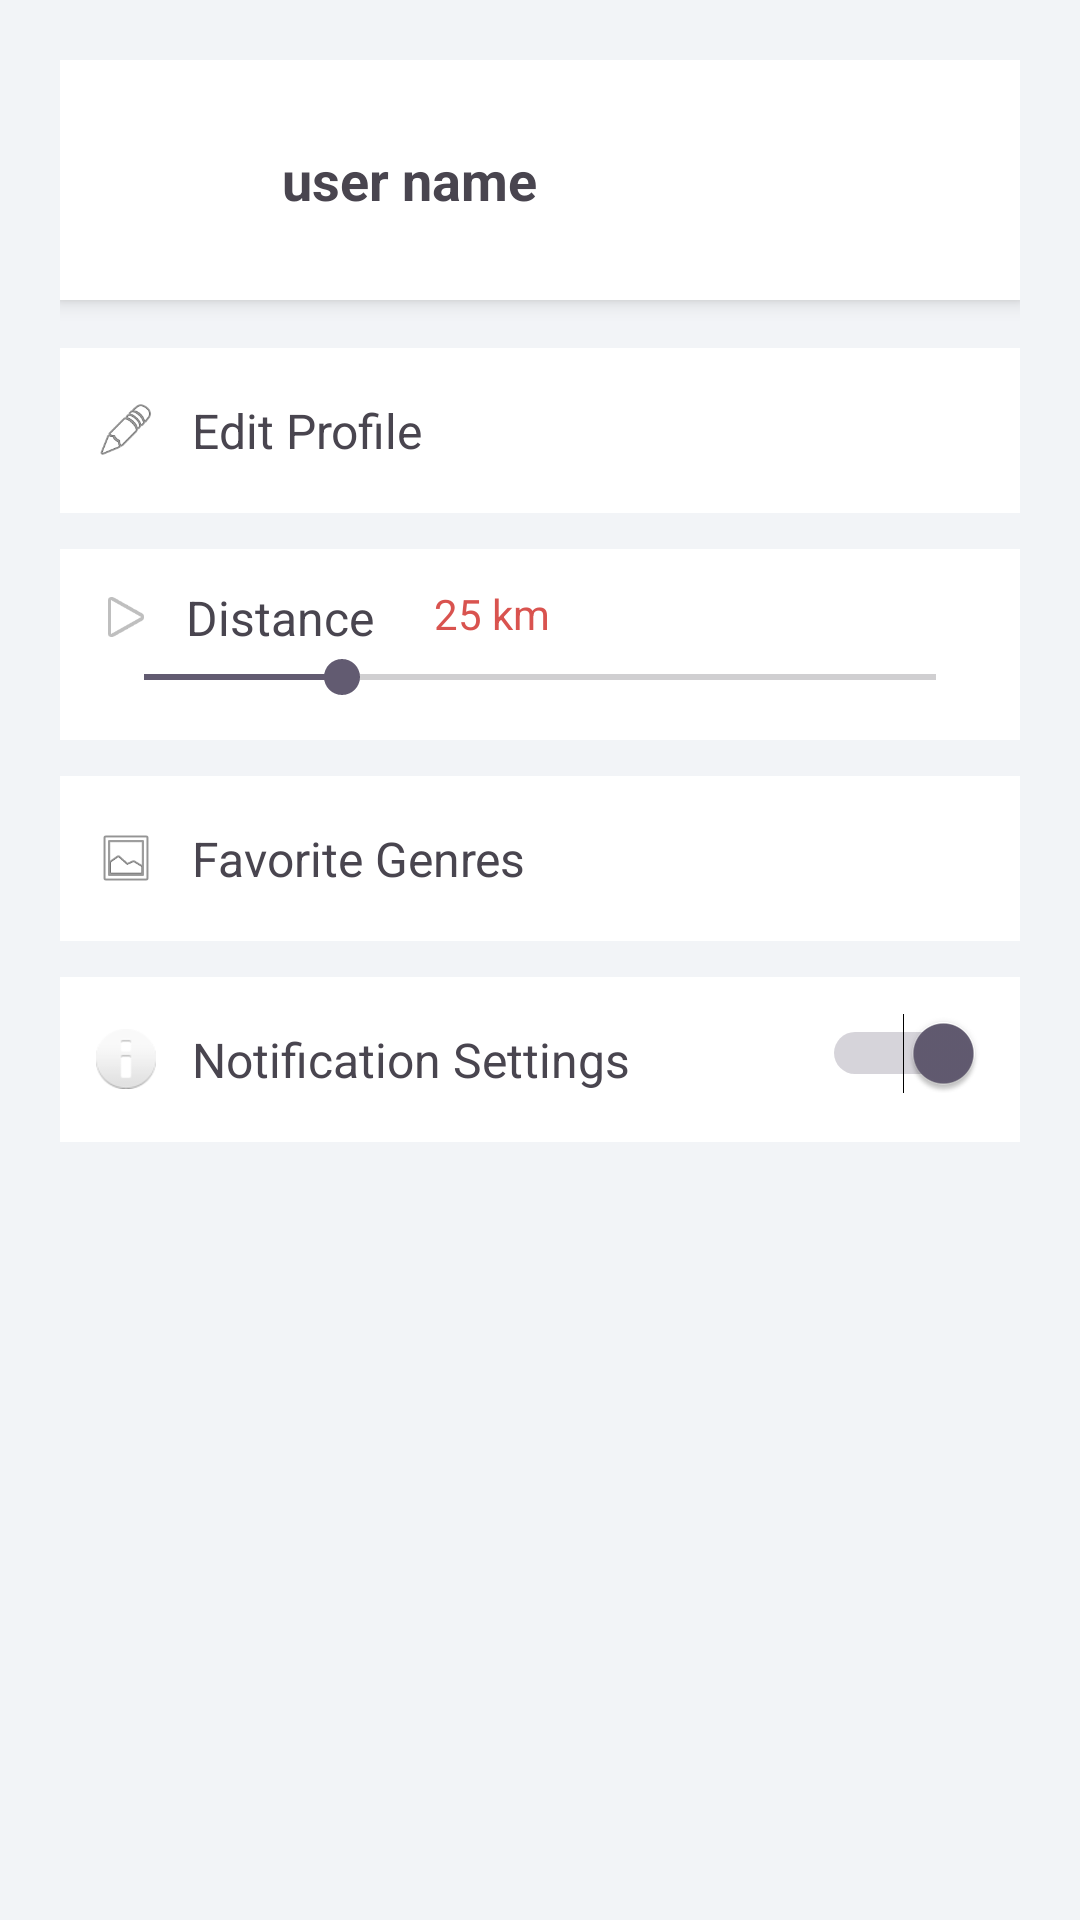

Where icons sit on this 1080w x 1920h app screen, as (x1, y1, x2, y2):
gallery: (103, 835, 149, 881)
info: (96, 1040, 156, 1089)
play: (108, 597, 144, 637)
